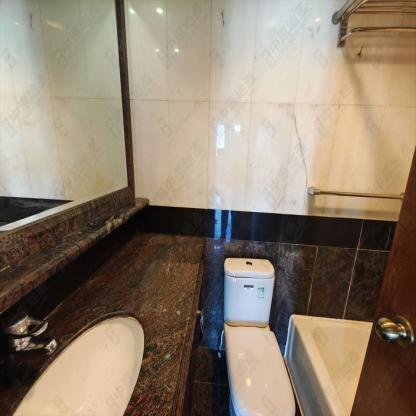Bathtub: (287, 310, 375, 415)
Faucet: (5, 309, 61, 362)
Toilet: (225, 257, 297, 415)
Toilet Sink: (10, 315, 146, 415)
